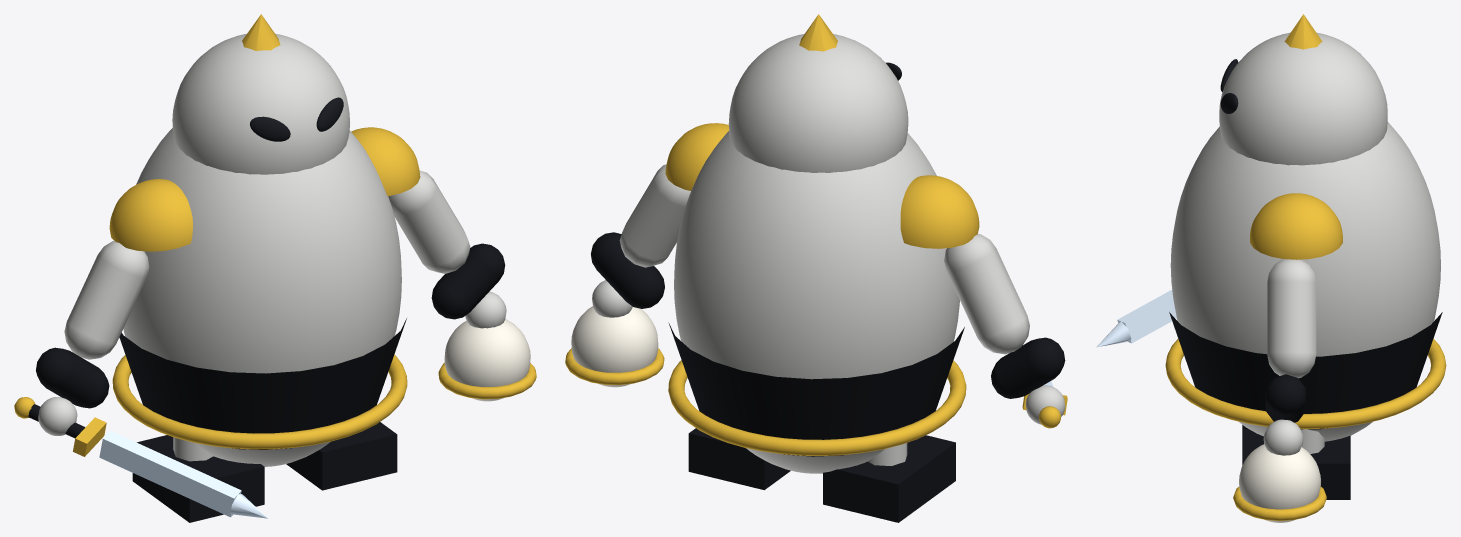
The model's file is mochiGeneral.glb.
3 views of the same model, side by side, from view 1: azimuth 30°, elevation 25°; view 2: azimuth 150°, elevation 25°; view 3: azimuth 270°, elevation 25° (orthographic). The views are drawn at different scales.
Visible parts, largest first — view 1: body, head, cape, leftUpperArm, armorBottomRim, leftPauldron, rightUpperArm, mochiCore, footRight, swordBlade, footLeft, rightForeArm (+10 smaller); view 2: body, head, cape, footLeft, leftUpperArm, armorBottomRim, leftPauldron, mochiCore, rightUpperArm, footRight, leftForeArm, rightForeArm (+6 smaller); view 3: body, head, cape, rightUpperArm, armorBottomRim, rightPauldron, mochiCore, footRight, rightForeArm, swordBlade, mochiWrap, rightHand (+3 smaller).
Boxes of the visible parts, x1=… form: body: x1=123, y1=128, x2=401, y2=466; head: x1=172, y1=33, x2=349, y2=174; cape: x1=119, y1=318, x2=406, y2=449; leftUpperArm: x1=64, y1=241, x2=149, y2=359; armorBottomRim: x1=112, y1=354, x2=407, y2=449; leftPauldron: x1=109, y1=179, x2=192, y2=251; rightUpperArm: x1=388, y1=170, x2=470, y2=273; mochiCore: x1=444, y1=319, x2=530, y2=401; footRight: x1=286, y1=422, x2=397, y2=490; swordBlade: x1=99, y1=430, x2=241, y2=517; footLeft: x1=132, y1=435, x2=264, y2=522; rightForeArm: x1=431, y1=243, x2=505, y2=319; body: x1=674, y1=131, x2=959, y2=473; head: x1=728, y1=34, x2=908, y2=172; cape: x1=668, y1=322, x2=964, y2=456; footLeft: x1=823, y1=435, x2=955, y2=522; leftUpperArm: x1=944, y1=234, x2=1029, y2=354; armorBottomRim: x1=668, y1=360, x2=966, y2=455; leftPauldron: x1=900, y1=175, x2=979, y2=248; mochiCore: x1=571, y1=306, x2=658, y2=387; rightUpperArm: x1=619, y1=164, x2=690, y2=267; footRight: x1=688, y1=428, x2=790, y2=490; leftForeArm: x1=991, y1=337, x2=1065, y2=398; rightForeArm: x1=591, y1=232, x2=664, y2=308; body: x1=1170, y1=122, x2=1440, y2=441; head: x1=1219, y1=32, x2=1387, y2=165; cape: x1=1169, y1=312, x2=1442, y2=429; rightUpperArm: x1=1267, y1=259, x2=1316, y2=378; armorBottomRim: x1=1165, y1=338, x2=1446, y2=429; rightPauldron: x1=1250, y1=193, x2=1342, y2=259; mochiCore: x1=1239, y1=444, x2=1320, y2=522; footRight: x1=1242, y1=429, x2=1350, y2=499; rightForeArm: x1=1265, y1=374, x2=1305, y2=422; swordBlade: x1=1117, y1=289, x2=1176, y2=343; mochiWrap: x1=1233, y1=486, x2=1326, y2=520; rightHand: x1=1263, y1=419, x2=1303, y2=455.
Bounding box in the file's own units: 4.66 × 4.11 × 2.99.
